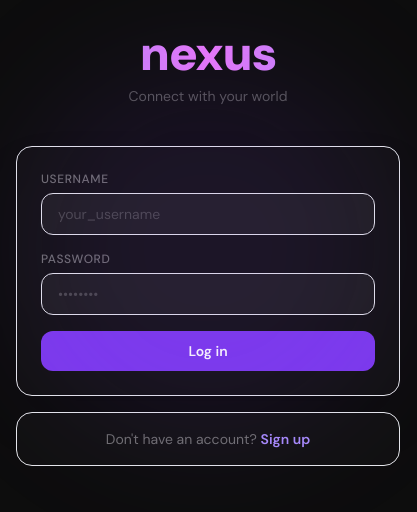
it: LoginPage › shows error when fields are empty
Click the button "Log in".
click(208, 351)  # box [41,331,375,371]
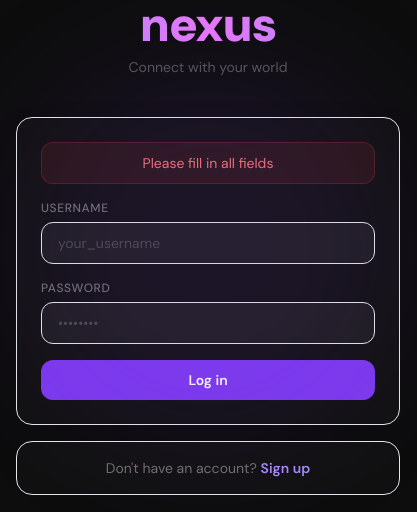
Result: the text "Please fill in all fields" is shown at [41,142,375,184]
